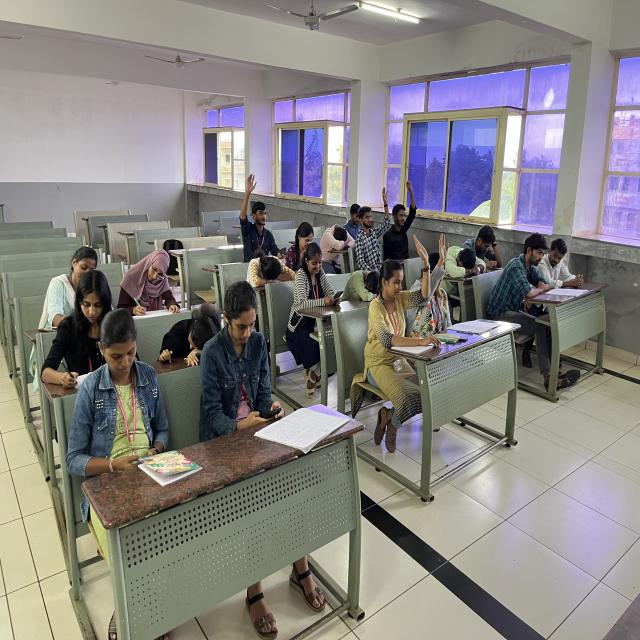Hand Rising: (372, 229, 437, 346), (414, 227, 454, 332), (236, 170, 276, 254), (388, 174, 425, 257), (358, 187, 390, 258)
Reading: (543, 237, 585, 304)
Sleeping: (153, 297, 227, 369), (239, 251, 302, 292), (436, 240, 488, 285), (342, 262, 384, 306), (314, 220, 359, 255)
Using Phone: (70, 307, 179, 463), (205, 278, 297, 428), (286, 238, 348, 337)
Writing: (44, 268, 116, 383), (114, 245, 191, 316)
